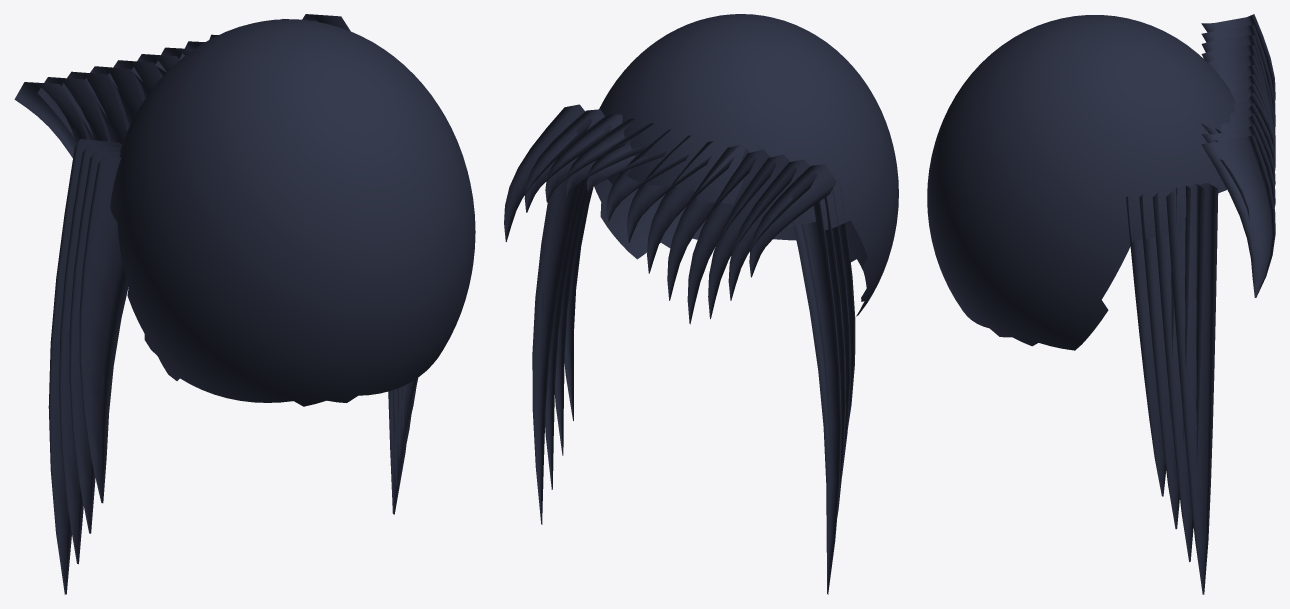
The model's file is anime_hair_mira.glb.
The picture shows the model from 3 angles, left to right: view 1: azimuth 30°, elevation 25°; view 2: azimuth 150°, elevation 25°; view 3: azimuth 270°, elevation 25°; orthographic projection. The views are drawn at different scales.
Parts seen in each view (by area): view 1: hair_cap, hair; view 2: hair, hair_cap; view 3: hair_cap, hair.
Boxes of the visible parts, bbox=[...] form: hair_cap: bbox=[110, 19, 475, 406]; hair: bbox=[14, 14, 418, 594]; hair: bbox=[504, 104, 855, 594]; hair_cap: bbox=[594, 14, 898, 316]; hair_cap: bbox=[927, 15, 1235, 350]; hair: bbox=[1126, 14, 1275, 594].
Bounding box in the file's own units: 0.33 × 0.4841 × 0.3078.
